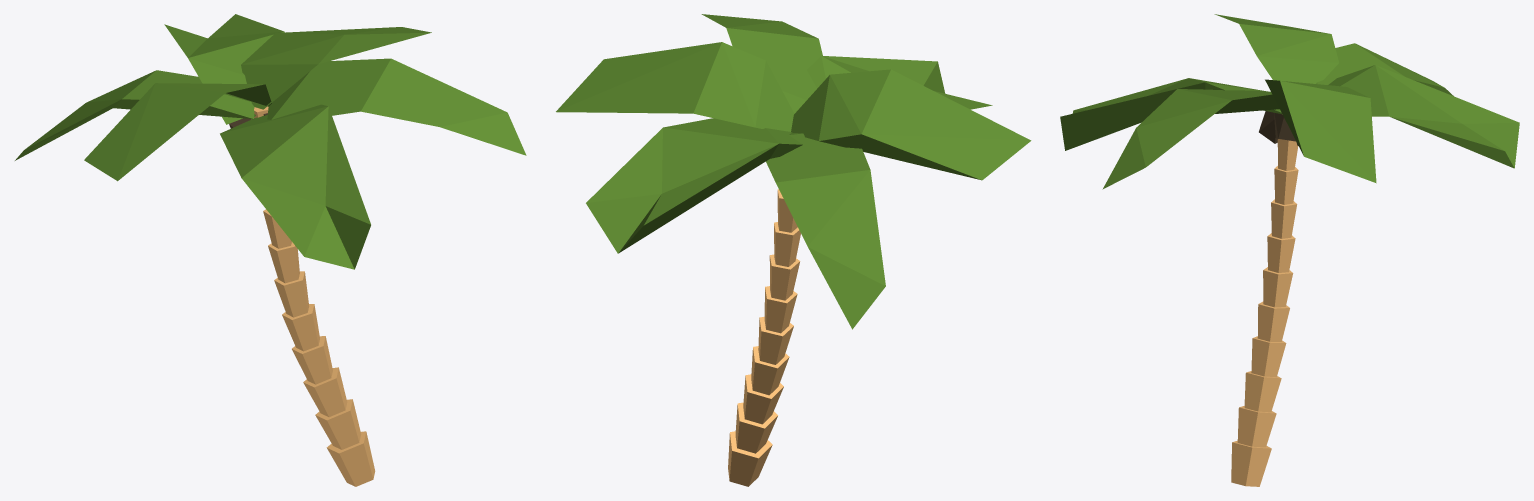
Rendered from palm_tree2.obj.
3 views of the same model, side by side, from view 1: azimuth 30°, elevation 25°; view 2: azimuth 150°, elevation 25°; view 3: azimuth 270°, elevation 25° (orthographic). The views are drawn at different scales.
Parts seen in each view (by area): view 1: main_palm.003_leaf, main_palm.003_wood; view 2: main_palm.003_leaf, main_palm.003_wood; view 3: main_palm.003_leaf, main_palm.003_wood, main_palm.003_coconut.
Boxes of the visible parts, <box> form: main_palm.003_leaf: <box>15,14,526,269</box>; main_palm.003_wood: <box>254,106,375,486</box>; main_palm.003_leaf: <box>556,14,1031,329</box>; main_palm.003_wood: <box>728,189,800,486</box>; main_palm.003_leaf: <box>1060,14,1519,189</box>; main_palm.003_wood: <box>1231,139,1298,486</box>; main_palm.003_coconut: <box>1259,111,1298,145</box>.
Size of the model in its own units: 7.94 by 8.91 by 9.09.
